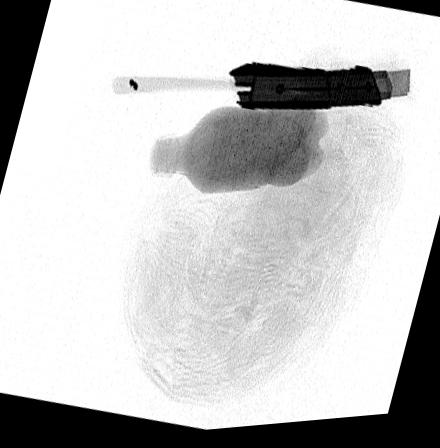Knife: (228, 65, 411, 116)
